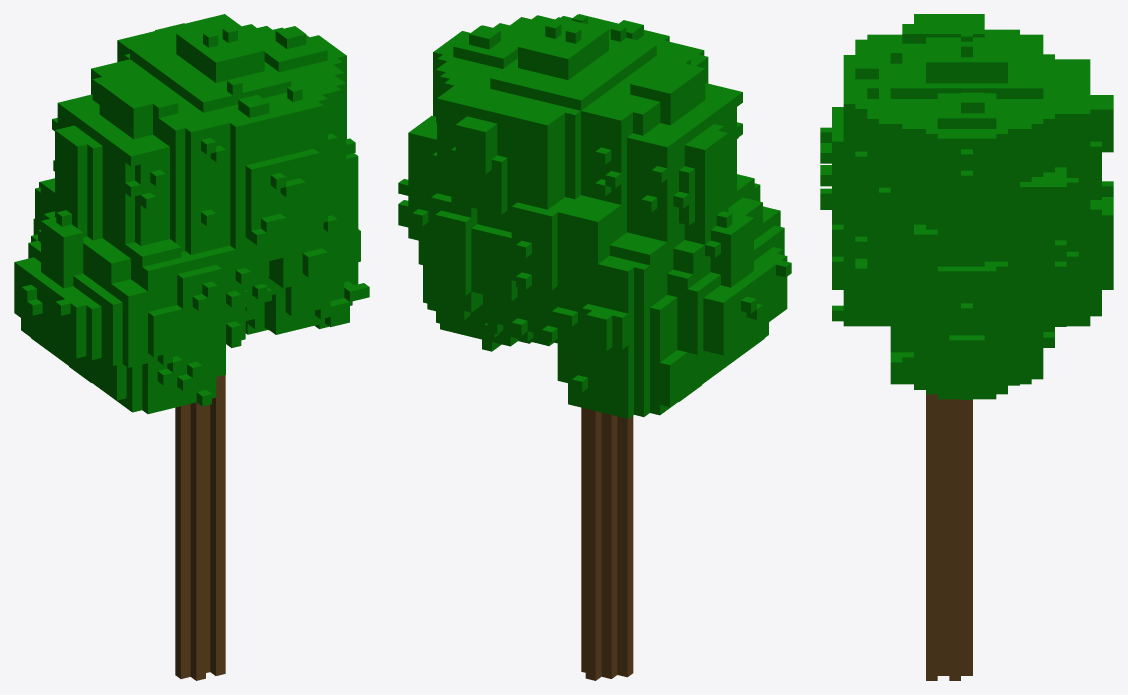
The model's file is Trainvasion Moterman-19-Tree.obj.
The picture shows the model from 3 angles, left to right: view 1: azimuth 30°, elevation 25°; view 2: azimuth 150°, elevation 25°; view 3: azimuth 270°, elevation 25°; orthographic projection. The views are drawn at different scales.
Parts seen in each view (by area): view 1: Tree; view 2: Tree; view 3: Tree.
Part boxes in pixels (x1,y1,x2,y2): Tree: (14, 14, 369, 680); Tree: (398, 14, 791, 680); Tree: (820, 14, 1113, 680).
Bounding box in the file's own units: 3.3 × 6.1 × 2.5.
Materials: 1 (1 with a texture image).
